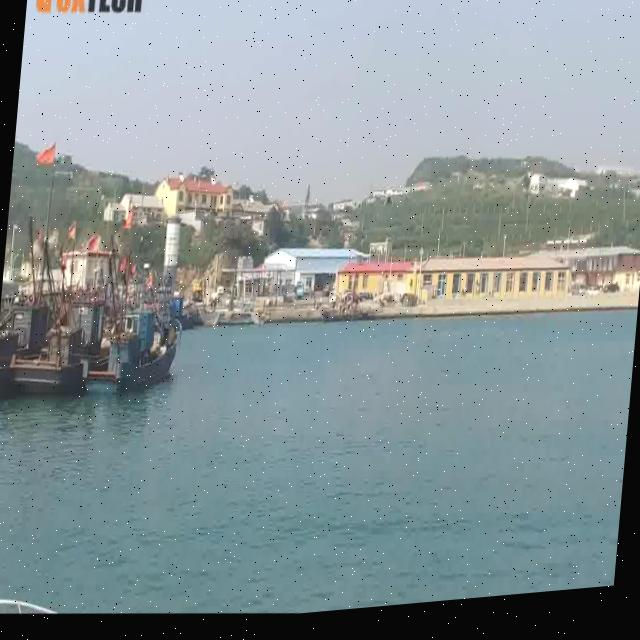drone: (338, 127, 439, 268)
